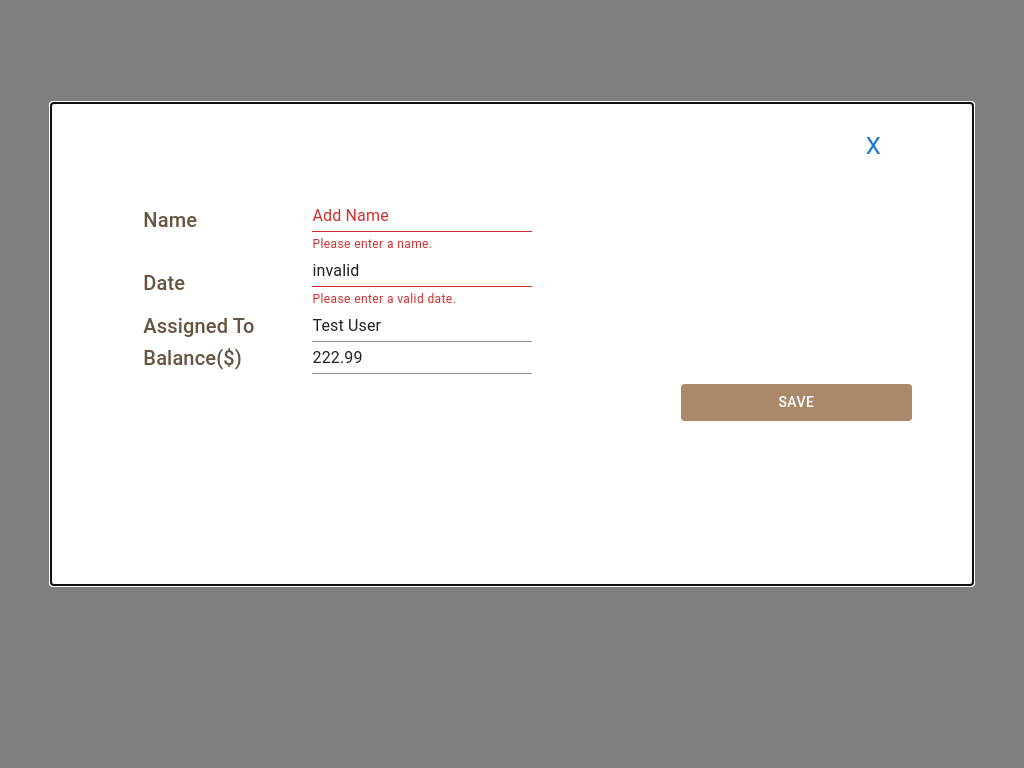
Test case: Testing <ExpensesOverlay /> Component › should have date error
The width and height of the screenshot is (1024, 768).
Clear the field with id "expenses-overlay-date-field" at point(422, 271), box [312, 255, 532, 287]
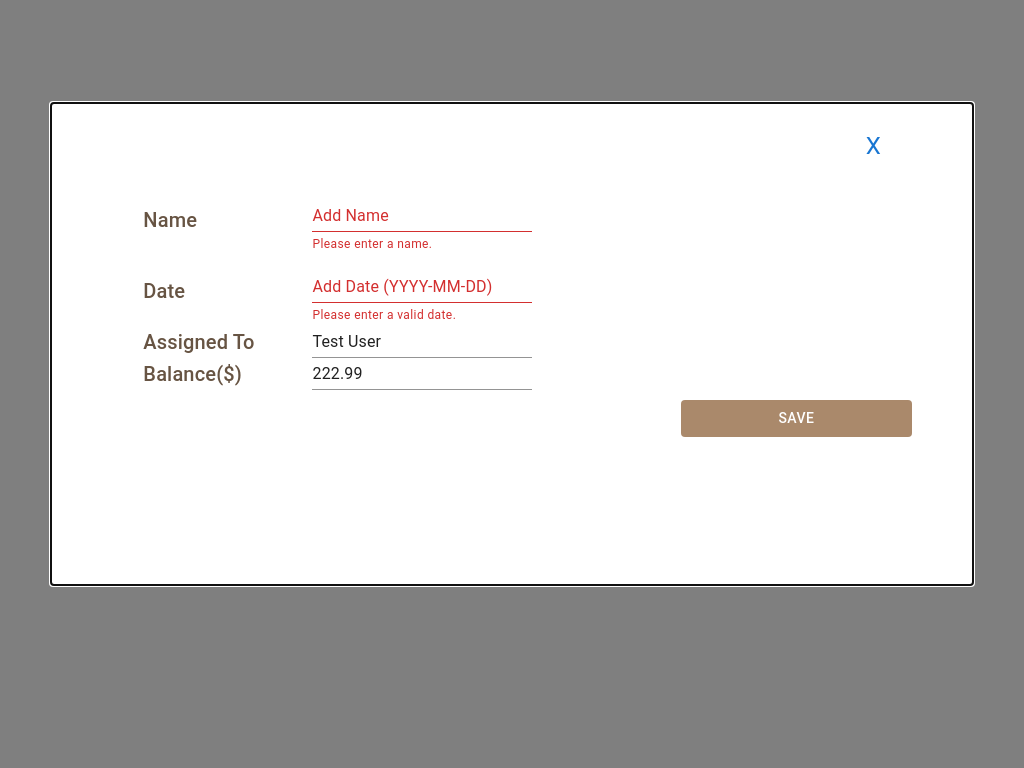
Click the button with id "expense-overlay-save-button" at point(796, 418), box [681, 400, 912, 437]
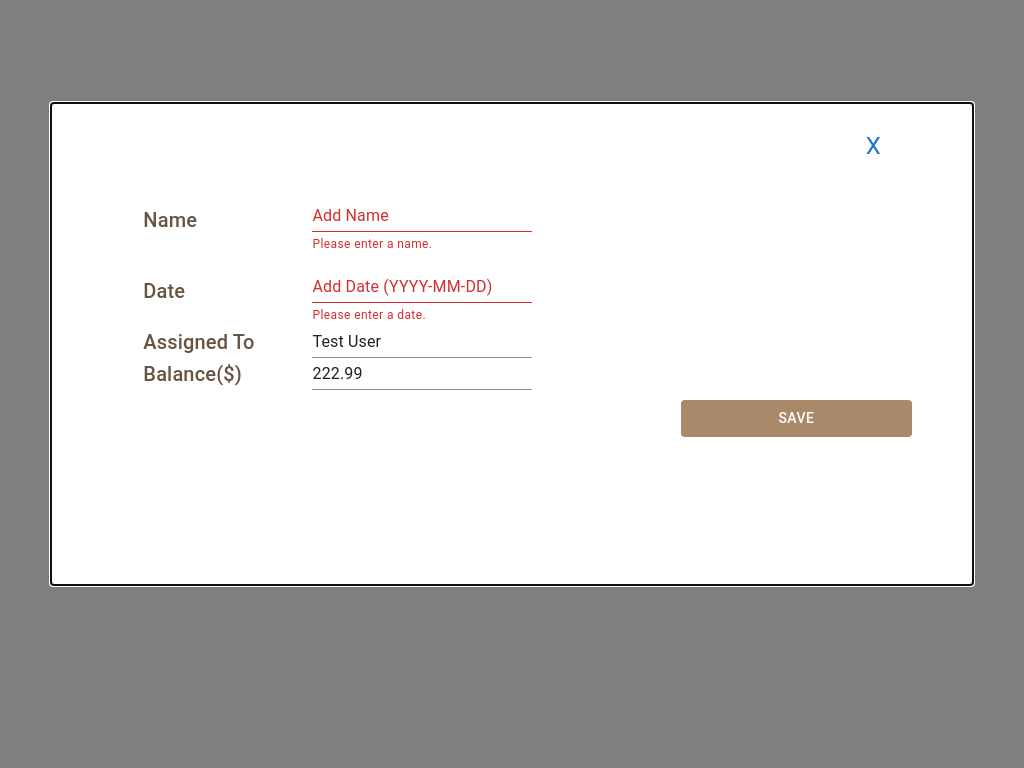
Expected: the text with id "expenses-overlay-date-field-helper-text" reads "Please enter a date.", [312, 308, 426, 322]
